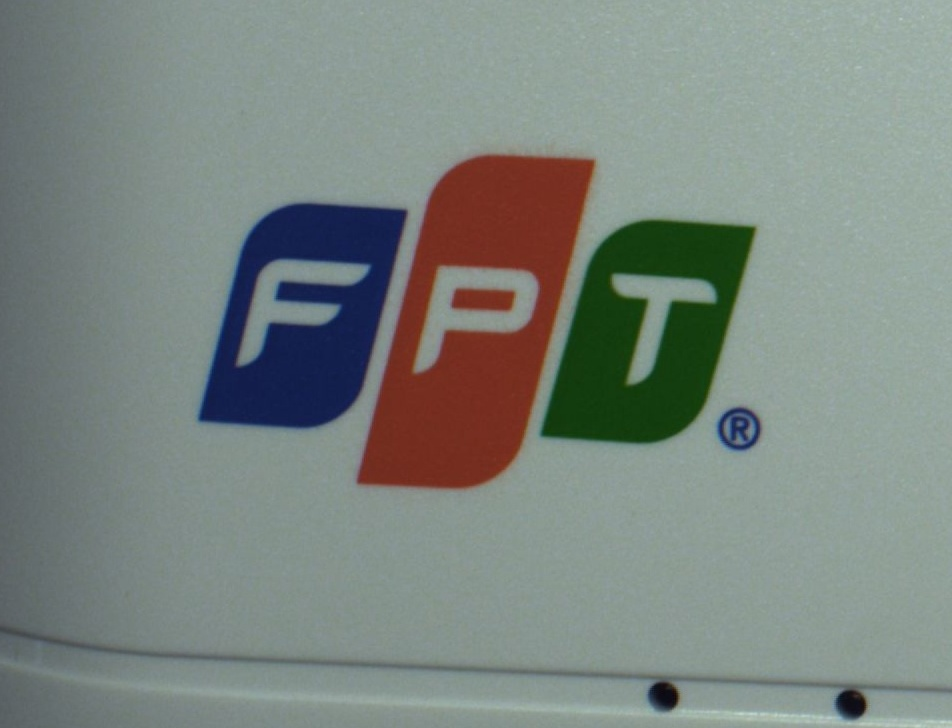BR_FPT: (167, 141, 777, 511)
